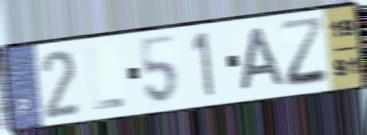1: (190, 29, 219, 100)
2: (38, 46, 83, 122)
5: (137, 32, 182, 108)
A: (238, 24, 288, 94)
L: (85, 45, 127, 113)
Z: (278, 14, 332, 90)
